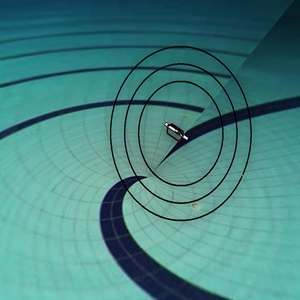circle: (103, 39, 260, 224)
submarine: (159, 113, 194, 154)
